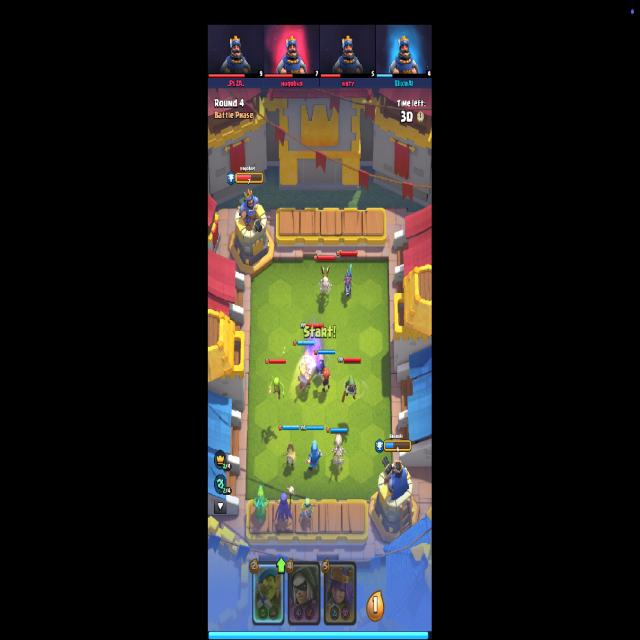baby_dragon: (252, 484, 269, 524)
bandit: (343, 372, 358, 404)
card_archer_queen: (324, 562, 356, 625)
card_bandit: (287, 560, 320, 627)
card_spear_goblin: (251, 558, 284, 627)
goblin: (269, 376, 285, 404)
mega_knight: (305, 341, 326, 375)
musketeer: (342, 264, 354, 300)
prince: (295, 357, 311, 393)
princess: (284, 442, 298, 472)
skeleton_dragon: (330, 432, 347, 474), (317, 264, 333, 296)
spear_goblin: (301, 497, 316, 524)
valkyrie: (320, 366, 332, 393)
witch: (276, 486, 295, 526)
wizard: (307, 440, 321, 474)
